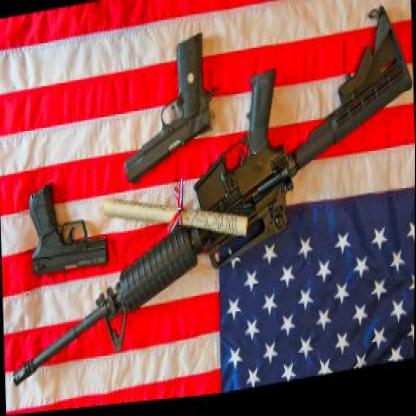pistol: (118, 32, 219, 188), (24, 170, 107, 284)
